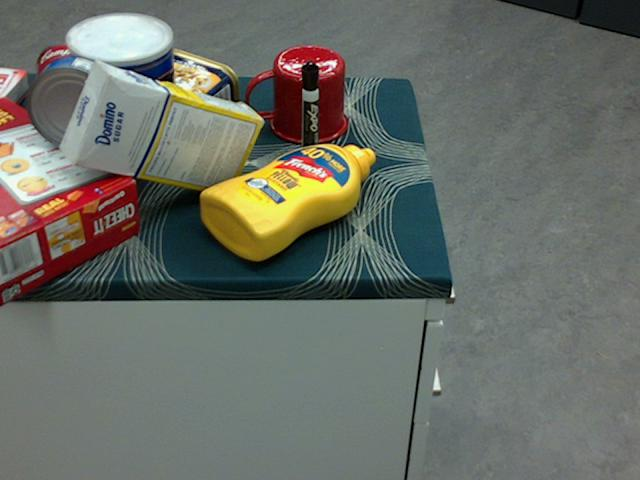cracker_box: (0, 98, 140, 302)
gelatin_box: (0, 67, 31, 127)
large_marker: (299, 60, 320, 167)
master_chef_can: (67, 14, 178, 181)
mug: (244, 45, 346, 145)
mustard_bottle: (200, 143, 375, 260)
potted_meat_can: (125, 49, 239, 138)
sugar_box: (60, 63, 264, 195)
tomato_soup_can: (34, 41, 99, 138)
tuna_fish_can: (26, 56, 123, 150)
